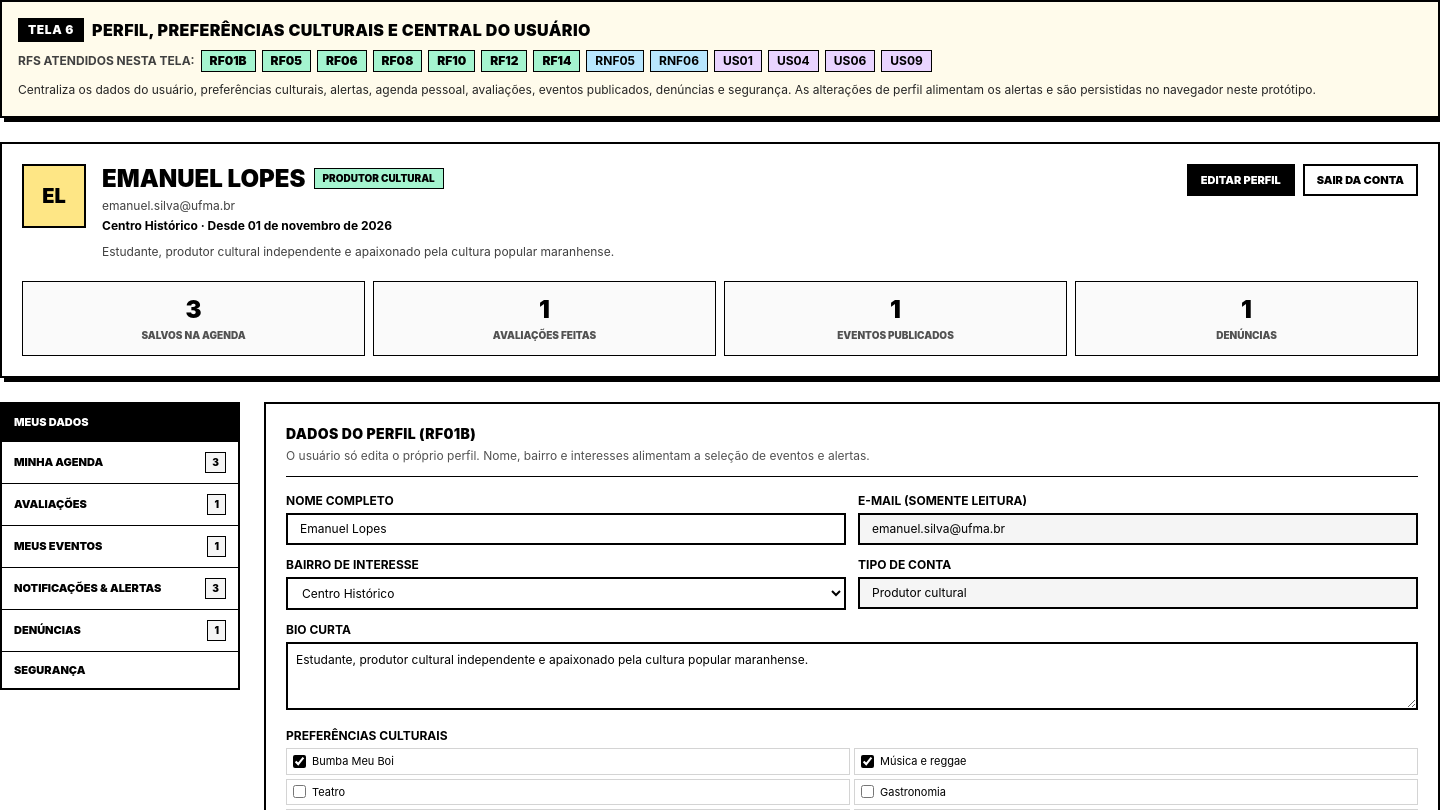
Test: ProfilePage › lista as denúncias registradas
Click the tab "Denúncias 1" at (120, 630), box [2,610,238,652]
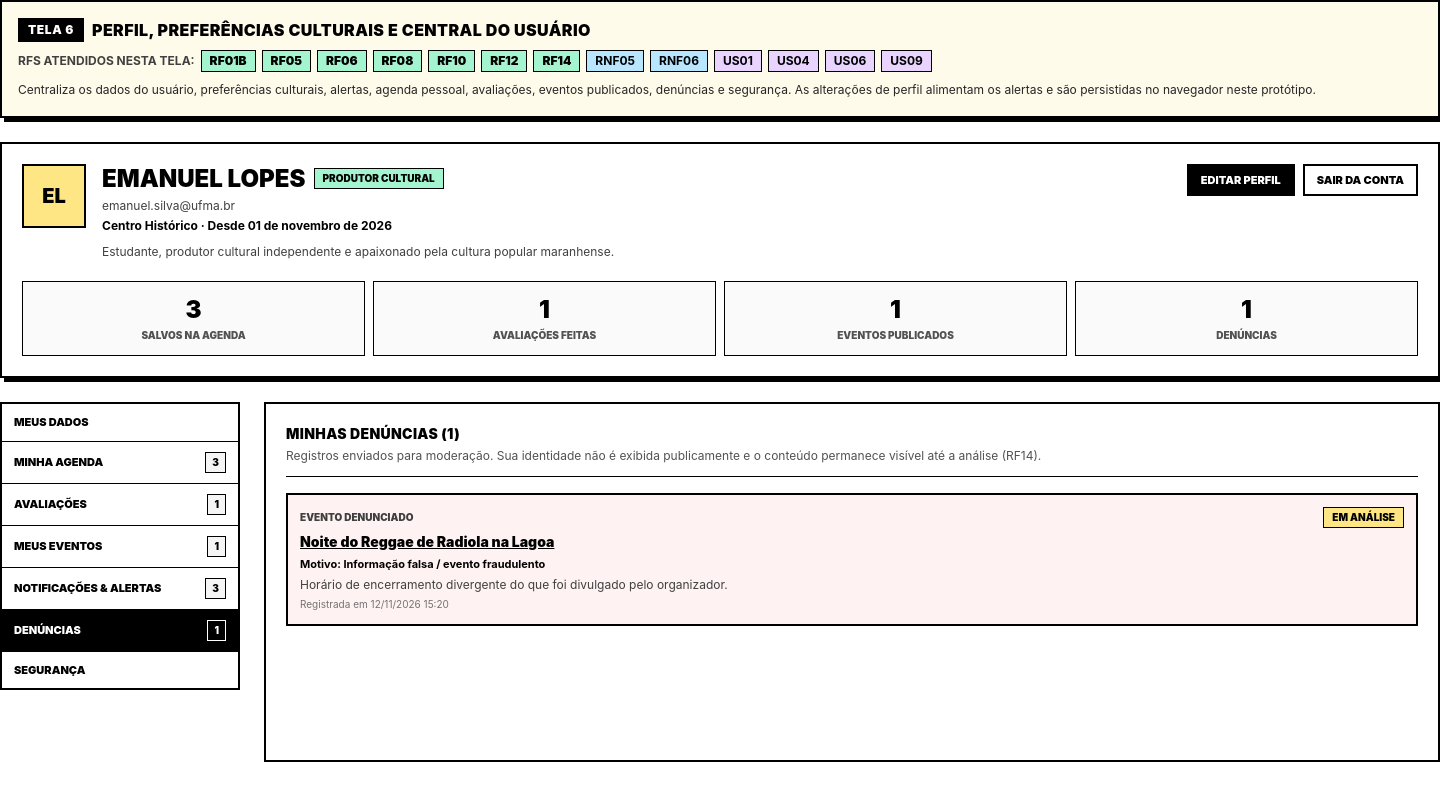
Expected: the link "Noite do Reggae de Radiola na Lagoa" is shown, [300,533,554,550]
Expected: the text "Em análise" is shown, [1323,507,1404,528]
